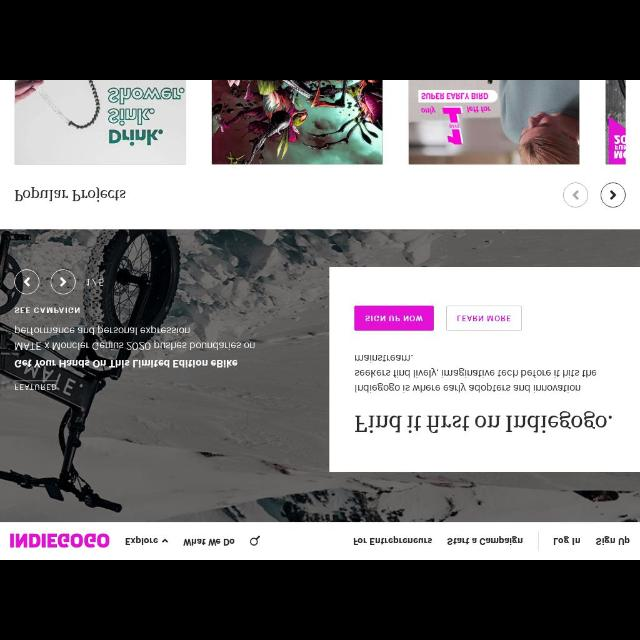backgroundimage: (1, 230, 639, 522)
button: (601, 182, 625, 208), (15, 270, 40, 294), (564, 183, 588, 207), (52, 268, 74, 294)
icon: (250, 536, 260, 546), (58, 277, 66, 287), (572, 190, 580, 200), (24, 276, 31, 286), (610, 189, 616, 199), (161, 539, 167, 543)
image: (14, 80, 186, 164), (212, 82, 384, 165), (410, 82, 578, 165), (9, 531, 109, 549), (606, 81, 626, 163)
spinner: (124, 534, 168, 548)
text: (15, 307, 255, 368), (354, 356, 598, 394), (355, 408, 613, 432), (15, 186, 126, 202), (352, 536, 432, 546), (447, 536, 523, 546), (365, 313, 423, 325), (183, 536, 234, 548), (456, 313, 509, 323), (124, 536, 158, 546), (595, 535, 629, 545), (14, 384, 56, 392), (554, 534, 580, 544), (86, 278, 102, 286)
textbutton: (354, 304, 434, 330), (446, 307, 524, 331)
toolbar: (1, 523, 639, 559)
